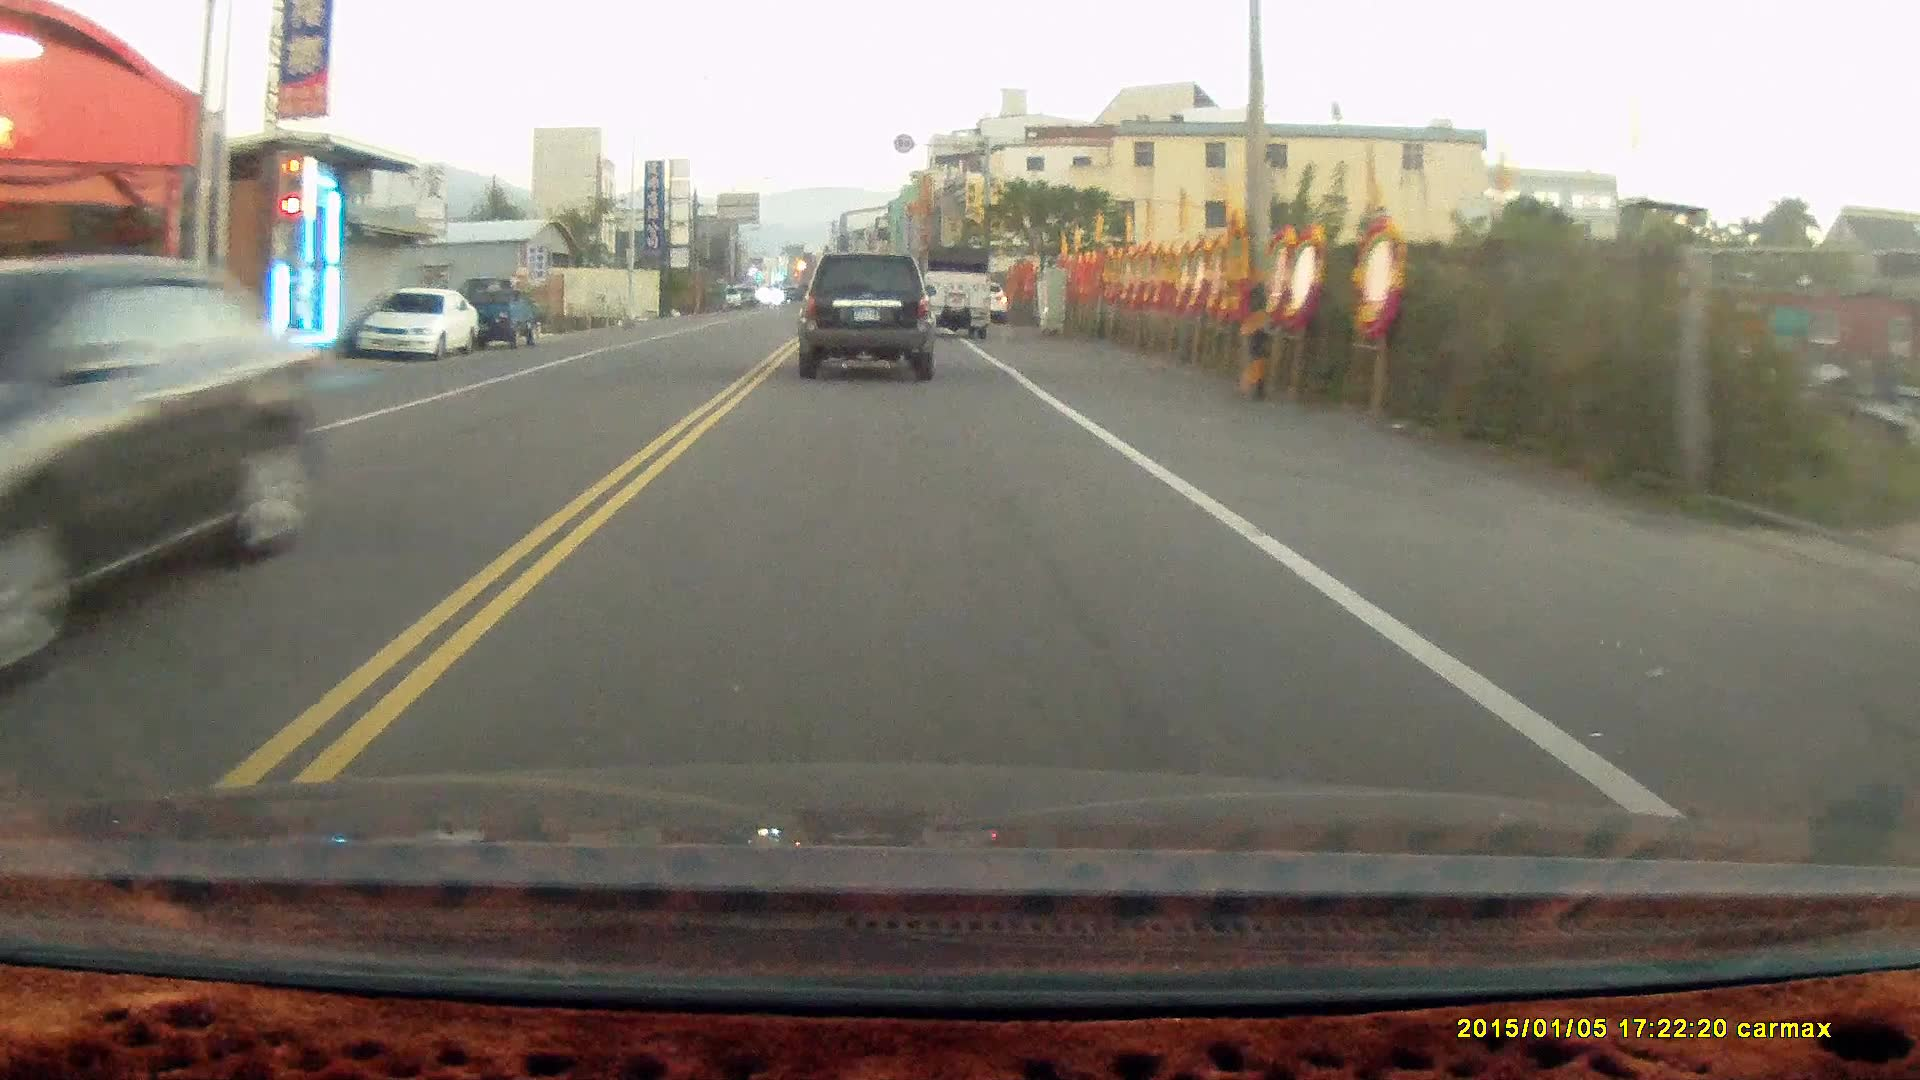vehicle: (1, 256, 324, 694), (800, 252, 940, 382), (359, 287, 483, 363), (458, 273, 549, 351), (923, 247, 996, 343)
